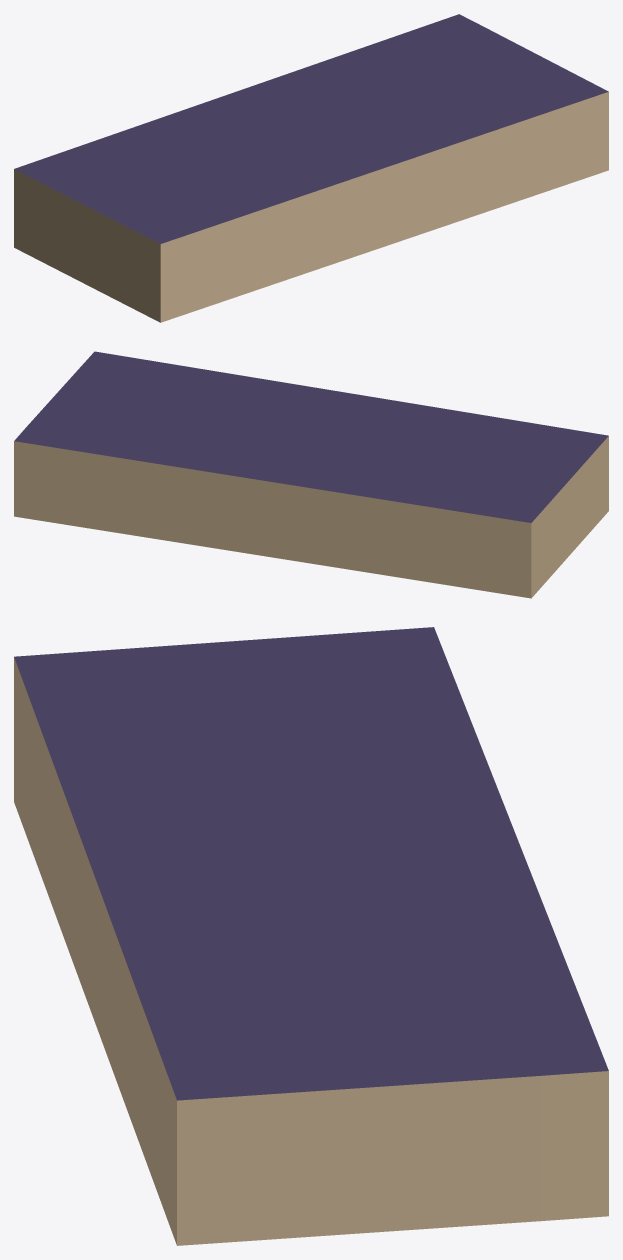
File: b-035-day.glb
3 views of the same model, one above another, from view 1: azimuth 30°, elevation 25°; view 2: azimuth 150°, elevation 25°; view 3: azimuth 270°, elevation 25° (orthographic). The views are drawn at different scales.
Parts seen in each view (by area): view 1: campus/b-035-day-0; view 2: campus/b-035-day-0; view 3: campus/b-035-day-0.
Boxes of the visible parts, x1,y1,x2,y2 form: campus/b-035-day-0: [14, 14, 608, 322]; campus/b-035-day-0: [14, 351, 608, 598]; campus/b-035-day-0: [14, 627, 608, 1245].
Size of the model in its own units: 20.96 by 3 by 11.13.
